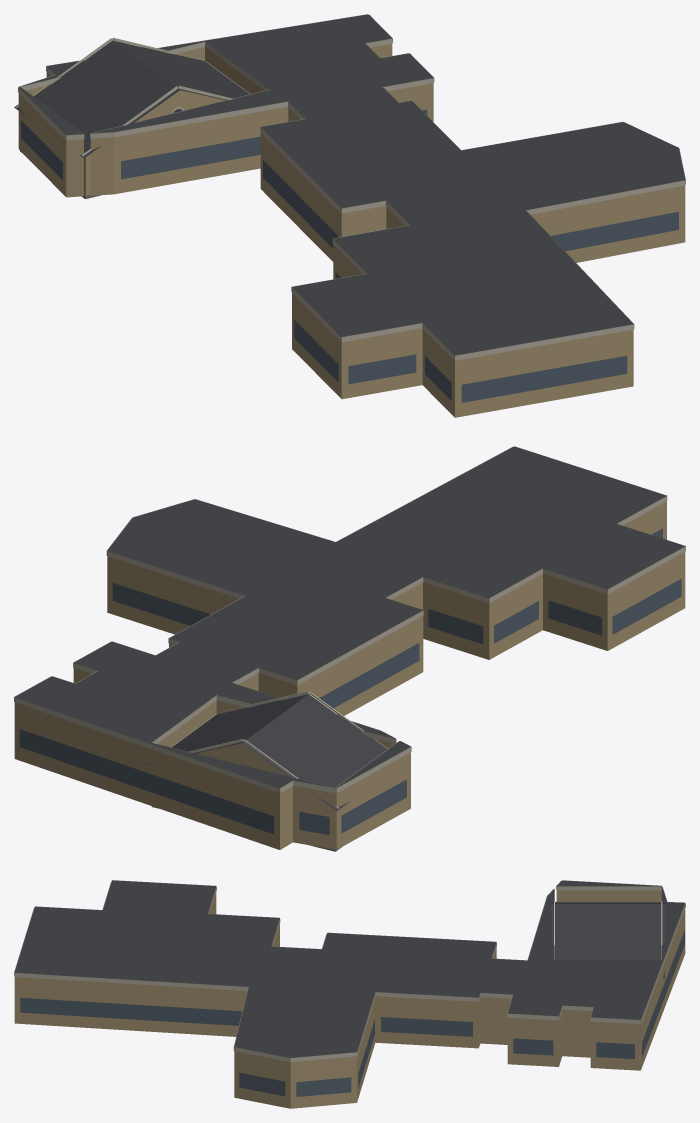
The model's file is bethel-ame-1970.glb.
The picture shows the model from 3 angles, top to bottom: view 1: azimuth 30°, elevation 25°; view 2: azimuth 150°, elevation 25°; view 3: azimuth 270°, elevation 25°; orthographic projection. The views are drawn at different scales.
Visible parts, largest first — view 1: bethel_ame_1970; view 2: bethel_ame_1970; view 3: bethel_ame_1970.
Boxes of the visible parts, x1,y1,x2,y2 form: bethel_ame_1970: (14,14,685,417); bethel_ame_1970: (14,446,685,851); bethel_ame_1970: (14,880,685,1108).
Bounding box in the file's own units: 43.68 × 8.55 × 69.62.
